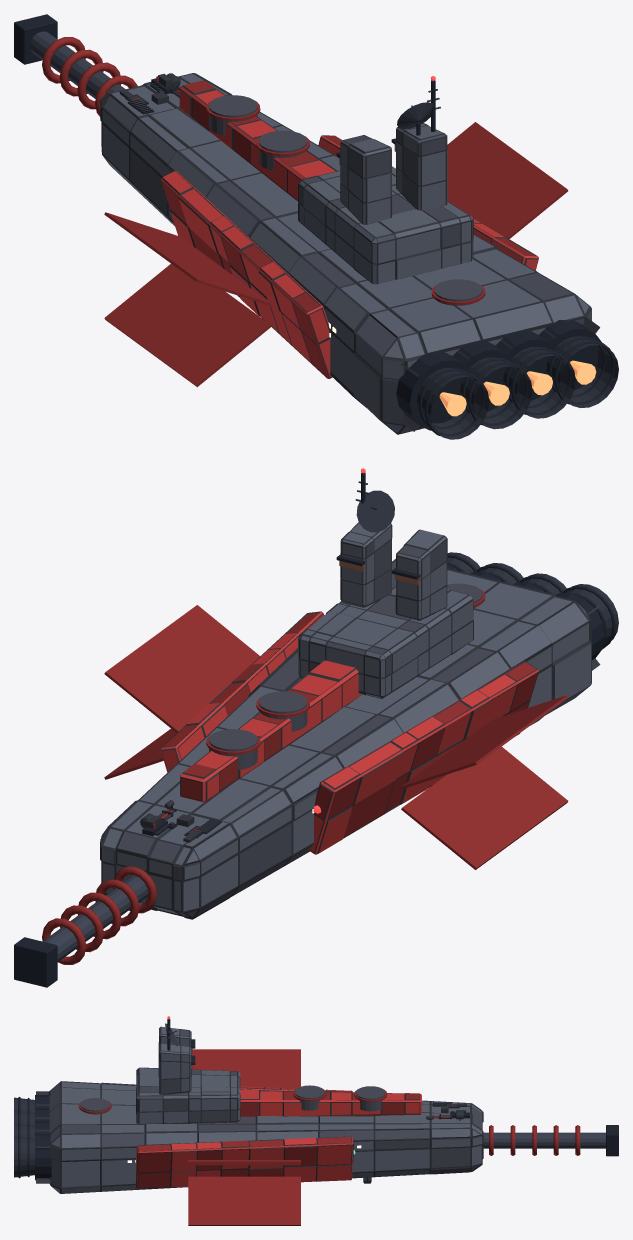
File: dominator.glb
3 renders of one model, top to bottom at view 1: azimuth 30°, elevation 25°; view 2: azimuth 150°, elevation 25°; view 3: azimuth 270°, elevation 25°, orthographic. The views are drawn at different scales.
Visible parts, largest first — view 1: dominator_mesh, radar_mesh; view 2: dominator_mesh, radar_mesh; view 3: dominator_mesh.
Boxes of the visible parts, left/top/right/bottom form: dominator_mesh: left=14, top=14, right=618, bottom=439; radar_mesh: left=397, top=102, right=433, bottom=135; dominator_mesh: left=14, top=472, right=618, bottom=987; radar_mesh: left=356, top=490, right=394, bottom=532; dominator_mesh: left=14, top=1019, right=618, bottom=1225.
Bounding box in the file's own units: 15.81 × 10.95 × 36.34.
